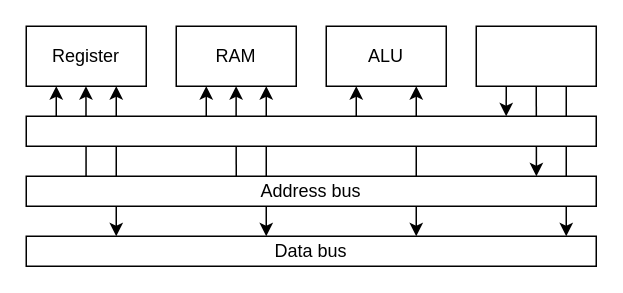
Some shapes in this 623 by 293 pixel diagram are drawn without their labels. Here are the shapes that lost their labels. From the top down, the box of each, then its label:
(475, 25, 596, 86): Co ntrol Unit
(25, 115, 596, 146): Control bus
